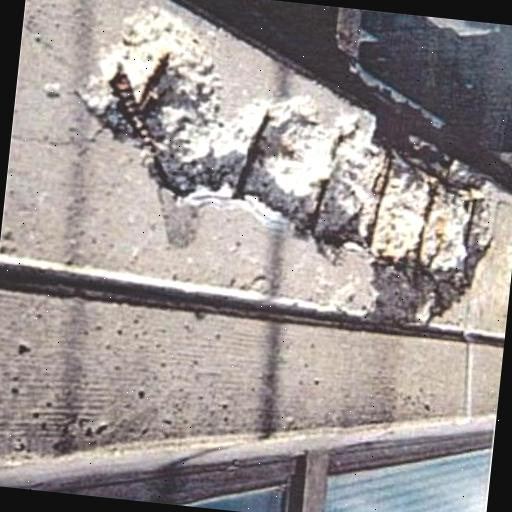spalling: (85, 8, 501, 332)
